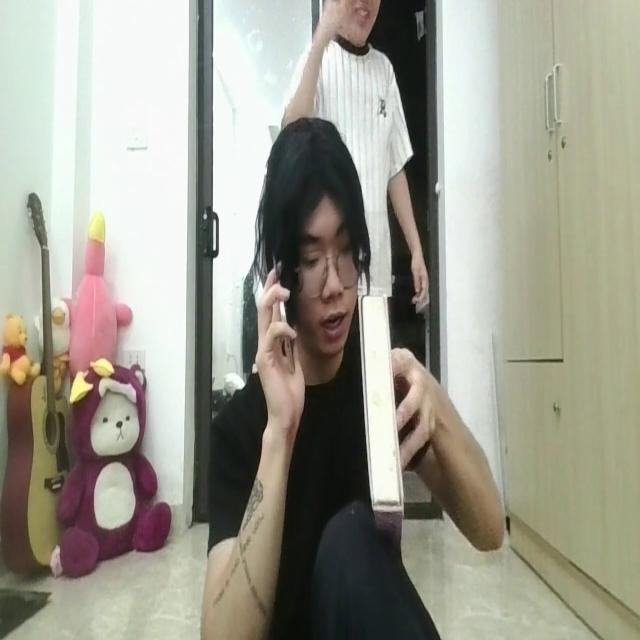book: (358, 277, 406, 544)
extra_person: (291, 3, 429, 311)
phone: (274, 264, 300, 394)
student: (188, 113, 506, 640)
